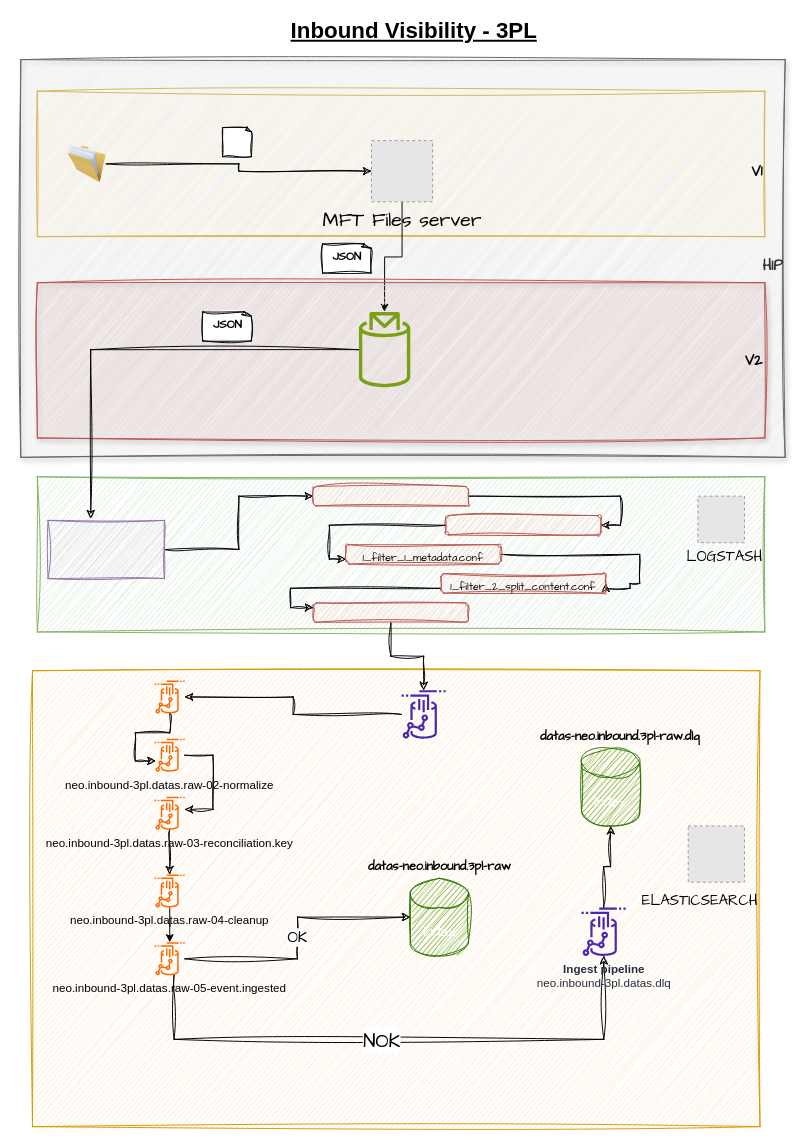
Image size: 808x1144. Some labels were removed from this diagram. Grey dashed boxes stand in for pictures. Each missing label, with the centre of its shape:
"0_input.conf" goes at pixel 523 525.
"2_output.conf" goes at pixel 390 612.
"3PL files" goes at pixel 86 163.
"Confluent - Kafka" goes at pixel 384 349.
"CSV" goes at pixel 237 142.
"emea_inbound_visibility_3pl" goes at pixel 390 495.
"Ingest pipeline neo.inbound-3pl.datas.raw" goes at pixel 423 714.
"Logstash Pipeline" goes at pixel 105 549.
"neo.inbound-3pl.datas.raw-01-map.content" goes at pixel 169 696.
